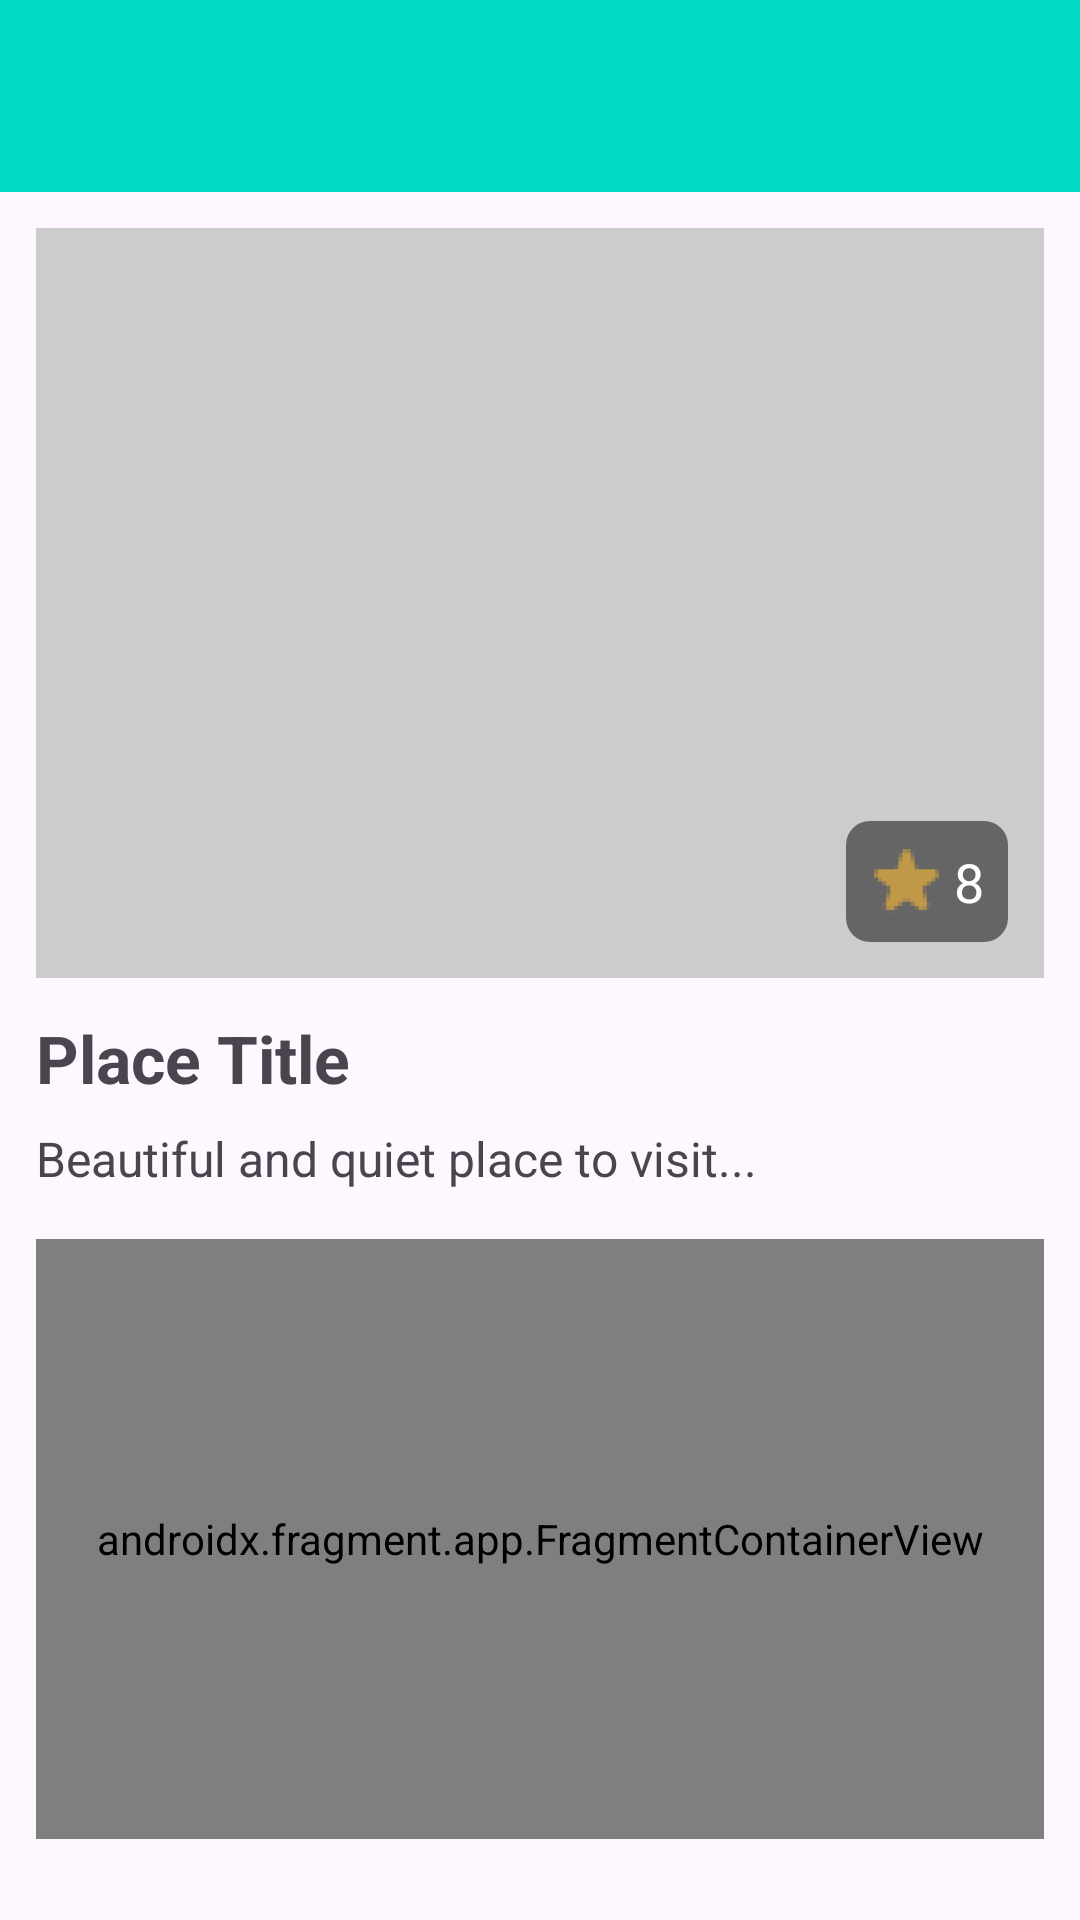

Icons on this 1080*1920 Android screen, each with the point to tap as point (x, y):
rate: point (906, 879)
